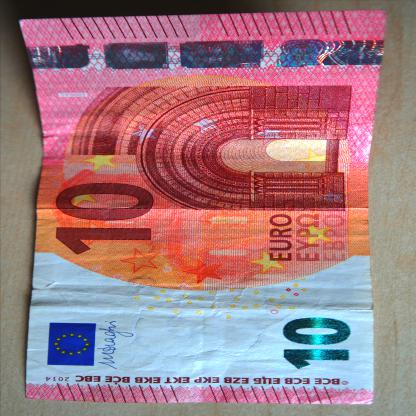euro_banknote: (10, 25, 405, 395)
